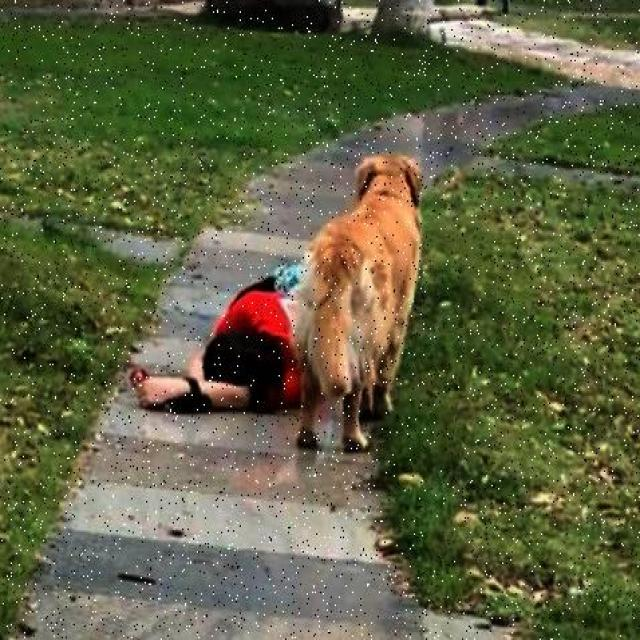fall: (134, 257, 315, 410)
